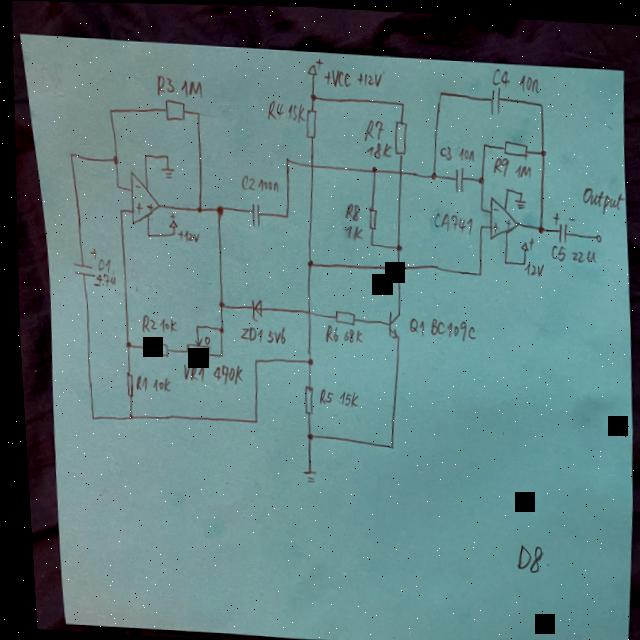capacitor: (67, 245, 98, 287), (548, 209, 573, 241), (486, 83, 501, 113), (450, 163, 464, 192), (247, 200, 259, 226)
crossover: (394, 166, 403, 173), (306, 160, 313, 168), (391, 261, 398, 269), (302, 307, 308, 315)
diode: (246, 295, 260, 319)
ground: (296, 467, 312, 483), (157, 164, 173, 179), (511, 196, 524, 207)
junction: (301, 354, 310, 365), (213, 204, 221, 216), (427, 168, 436, 178), (367, 163, 376, 173), (213, 299, 222, 309), (302, 256, 311, 266), (300, 429, 308, 440), (475, 172, 483, 182), (308, 90, 316, 100), (109, 153, 117, 163), (392, 240, 399, 250), (120, 338, 127, 348), (534, 221, 541, 231), (193, 203, 200, 213), (517, 256, 523, 266), (189, 322, 196, 330), (436, 87, 443, 95), (247, 416, 254, 424), (397, 98, 404, 106), (111, 181, 118, 189), (365, 239, 372, 246), (538, 146, 544, 154), (214, 324, 220, 332), (122, 412, 128, 420), (115, 205, 121, 213), (282, 154, 288, 162), (248, 356, 254, 364), (499, 256, 505, 264), (214, 350, 220, 358), (383, 440, 389, 448), (502, 183, 508, 191), (536, 99, 542, 106), (85, 414, 91, 421), (476, 203, 482, 210), (479, 139, 485, 146), (140, 151, 146, 158), (142, 231, 148, 238), (475, 221, 481, 228), (162, 152, 168, 158), (281, 211, 286, 218), (107, 107, 112, 114), (516, 186, 520, 194), (67, 152, 72, 158), (473, 269, 478, 275), (194, 109, 199, 115), (169, 231, 173, 235)
resistor: (180, 335, 207, 362), (390, 117, 407, 154), (138, 338, 166, 358), (161, 98, 185, 121), (500, 137, 526, 156), (302, 106, 317, 138), (297, 382, 311, 414), (362, 203, 376, 229), (331, 307, 352, 324), (119, 369, 129, 397)
source: (305, 61, 317, 74), (165, 218, 176, 229), (516, 237, 525, 249)
terminal: (592, 230, 598, 239)
text: (579, 183, 624, 213), (425, 314, 472, 341), (430, 209, 472, 233), (206, 361, 238, 385), (321, 66, 351, 87), (360, 116, 384, 141), (516, 69, 540, 93), (233, 322, 260, 342), (362, 139, 390, 158), (178, 77, 203, 98), (177, 361, 201, 382), (518, 257, 542, 278), (329, 386, 354, 406), (354, 69, 382, 86), (153, 74, 174, 96), (285, 100, 305, 123), (264, 97, 284, 120), (334, 325, 359, 342), (403, 313, 421, 336), (254, 175, 277, 193), (174, 226, 198, 243), (489, 64, 509, 84), (567, 246, 593, 261), (490, 153, 508, 174), (341, 200, 359, 221), (136, 312, 154, 333), (154, 316, 174, 334), (313, 385, 333, 403), (340, 222, 361, 239), (90, 272, 113, 287), (546, 241, 564, 260), (320, 319, 334, 343), (511, 160, 530, 177), (455, 144, 474, 160), (146, 375, 165, 391), (262, 327, 283, 341), (237, 173, 254, 190), (93, 256, 109, 271), (130, 372, 144, 389), (436, 143, 450, 159), (131, 200, 141, 216), (525, 234, 532, 249), (143, 201, 152, 212), (314, 56, 322, 68), (131, 180, 139, 191), (489, 219, 495, 231), (503, 215, 509, 227), (200, 334, 206, 344), (166, 210, 173, 218), (490, 204, 496, 209)
transistor: (381, 307, 398, 338)
